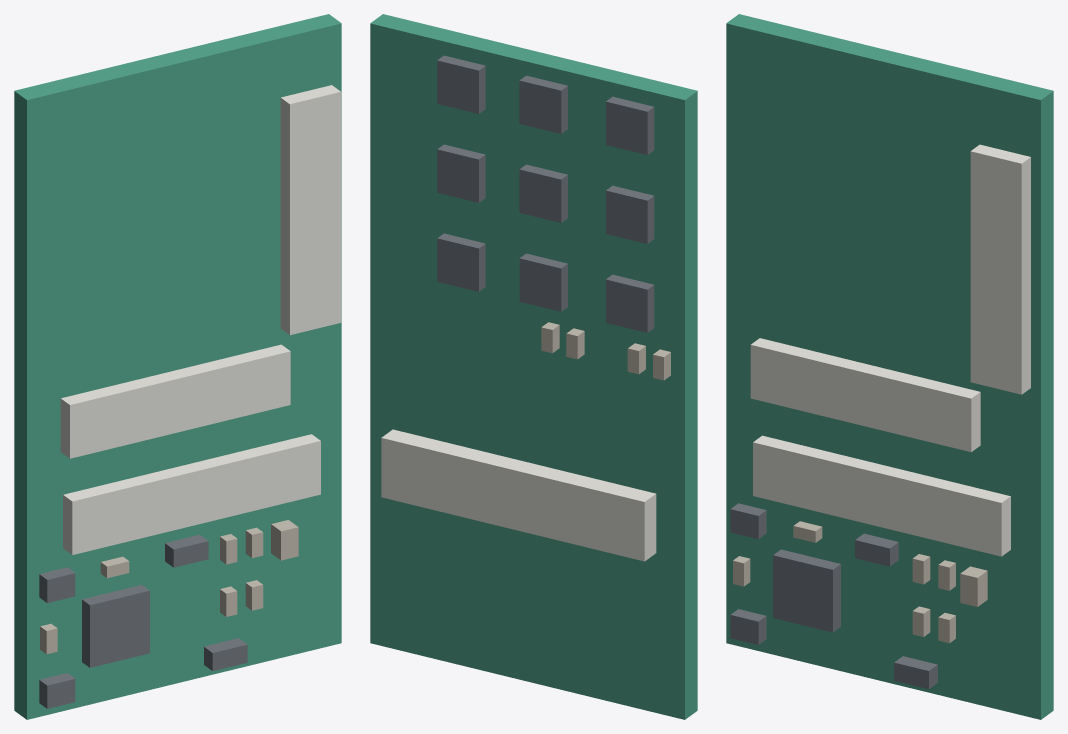
File: stack_part_0_fpgaldo.glb
The picture shows the model from 3 angles, left to right: view 1: azimuth 30°, elevation 25°; view 2: azimuth 150°, elevation 25°; view 3: azimuth 330°, elevation 25°; orthographic projection.
Parts seen in each view (by area): view 1: board, conn, ic, passive; view 2: board, ic, conn, passive; view 3: board, conn, ic, passive.
Boxes of the visible parts, left/top/right/bottom form: board: left=14, top=14, right=341, bottom=719; conn: left=60, top=85, right=341, bottom=554; ic: left=39, top=534, right=247, bottom=708; passive: left=40, top=520, right=298, bottom=654; board: left=370, top=14, right=697, bottom=719; ic: left=437, top=55, right=654, bottom=332; conn: left=381, top=429, right=656, bottom=561; passive: left=541, top=322, right=670, bottom=380; board: left=726, top=14, right=1053, bottom=719; conn: left=750, top=144, right=1030, bottom=556; ic: left=730, top=503, right=937, bottom=689; passive: left=733, top=521, right=987, bottom=643.
Bounding box in the file's own units: 22.59 × 42.5 × 4.27.
